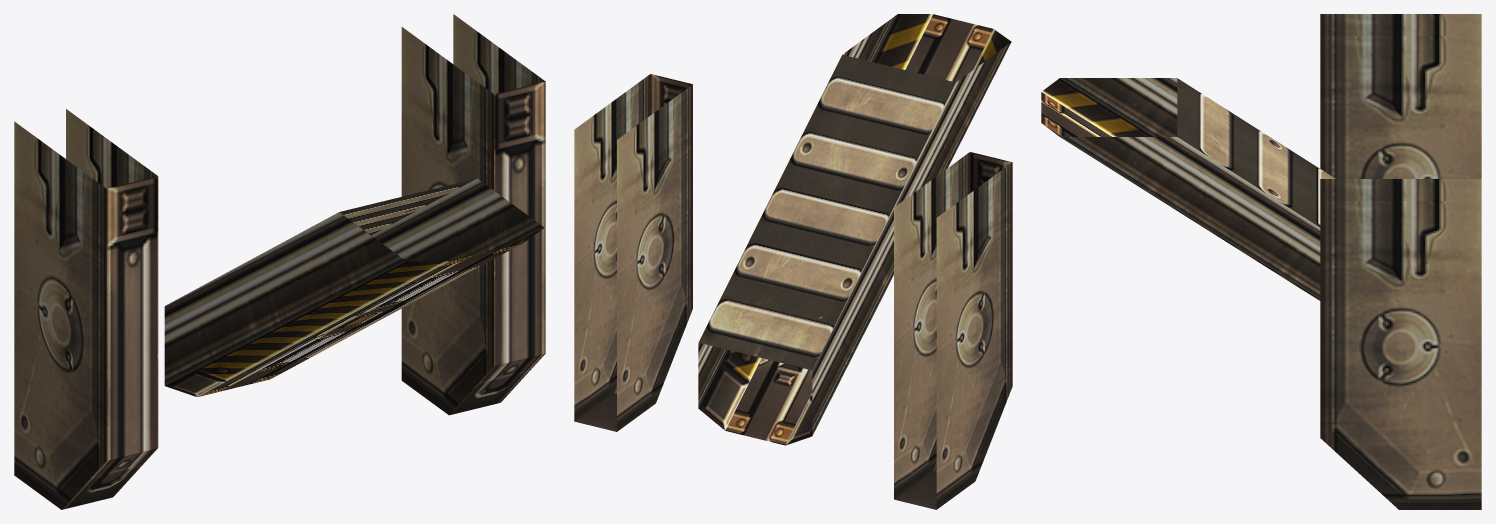
Rendered from mpr_support.FBX.
The picture shows the model from 3 angles, left to right: view 1: azimuth 30°, elevation 25°; view 2: azimuth 150°, elevation 25°; view 3: azimuth 270°, elevation 25°; orthographic projection. The views are drawn at different scales.
Visible parts, largest first — view 1: mpr_support; view 2: mpr_support; view 3: mpr_support.
Boxes of the visible parts, x1,y1,x2,y2 form: mpr_support: [14, 14, 545, 509]; mpr_support: [574, 14, 1012, 509]; mpr_support: [1041, 14, 1481, 509].
Size of the model in its own units: 306 by 236 by 304.
Materials: 1 (1 with a texture image).
